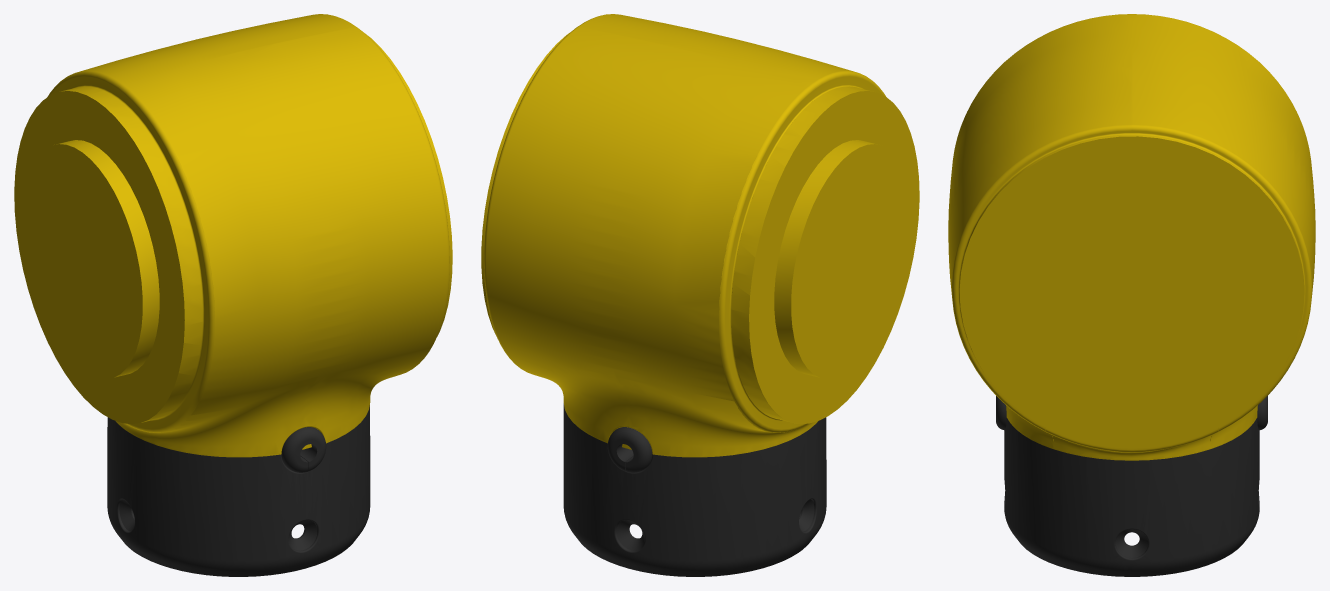
File: wrist_roll_r_j7_link.glb
3 views of the same model, side by side, from view 1: azimuth 30°, elevation 25°; view 2: azimuth 150°, elevation 25°; view 3: azimuth 270°, elevation 25° (orthographic). The views are drawn at different scales.
Parts seen in each view (by area): view 1: Mesh_0.027; view 2: Mesh_0.027; view 3: Mesh_0.027.
Boxes of the visible parts, <box> form: Mesh_0.027: <box>14,14,452,576</box>; Mesh_0.027: <box>481,14,919,576</box>; Mesh_0.027: <box>948,14,1315,576</box>.
Bounding box in the file's own units: 0.0667 × 0.1072 × 0.0775.
